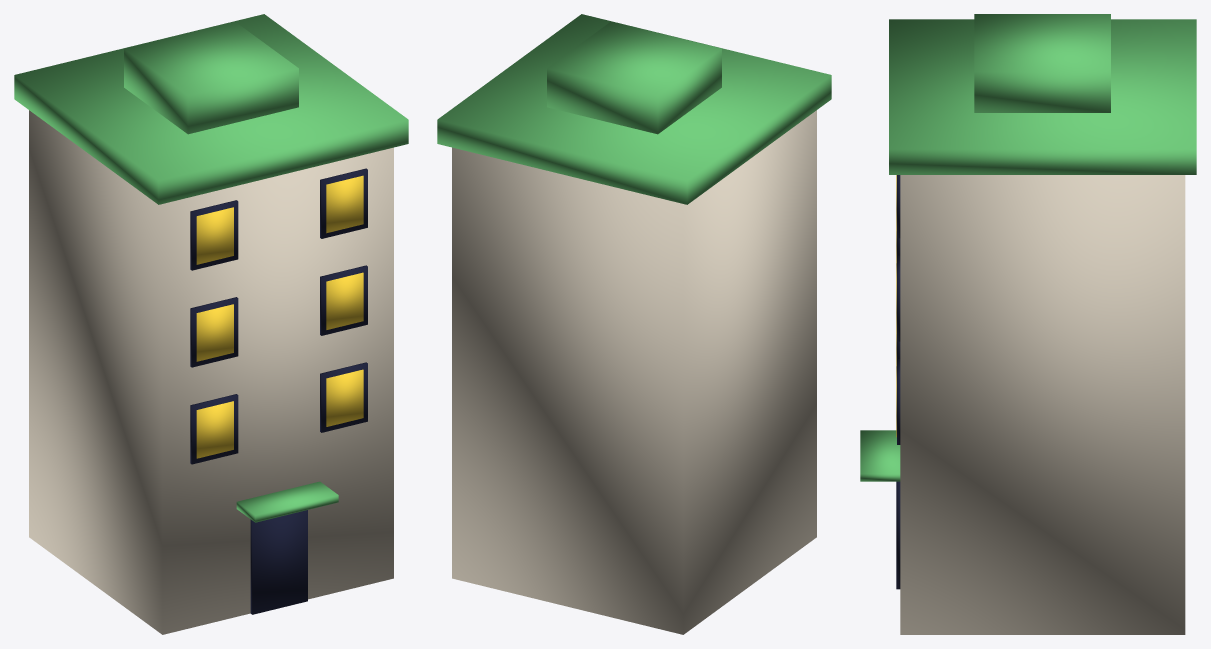
The model's file is building_a.glb.
3 views of the same model, side by side, from view 1: azimuth 30°, elevation 25°; view 2: azimuth 150°, elevation 25°; view 3: azimuth 270°, elevation 25° (orthographic). The views are drawn at different scales.
Parts seen in each view (by area): view 1: building_a; view 2: building_a; view 3: building_a.
Part boxes in pixels (x1,y1,x2,y2): building_a: [14, 14, 408, 634]; building_a: [437, 14, 831, 634]; building_a: [860, 14, 1196, 634].
Size of the model in its own units: 5.4 by 10.3 by 5.9.
